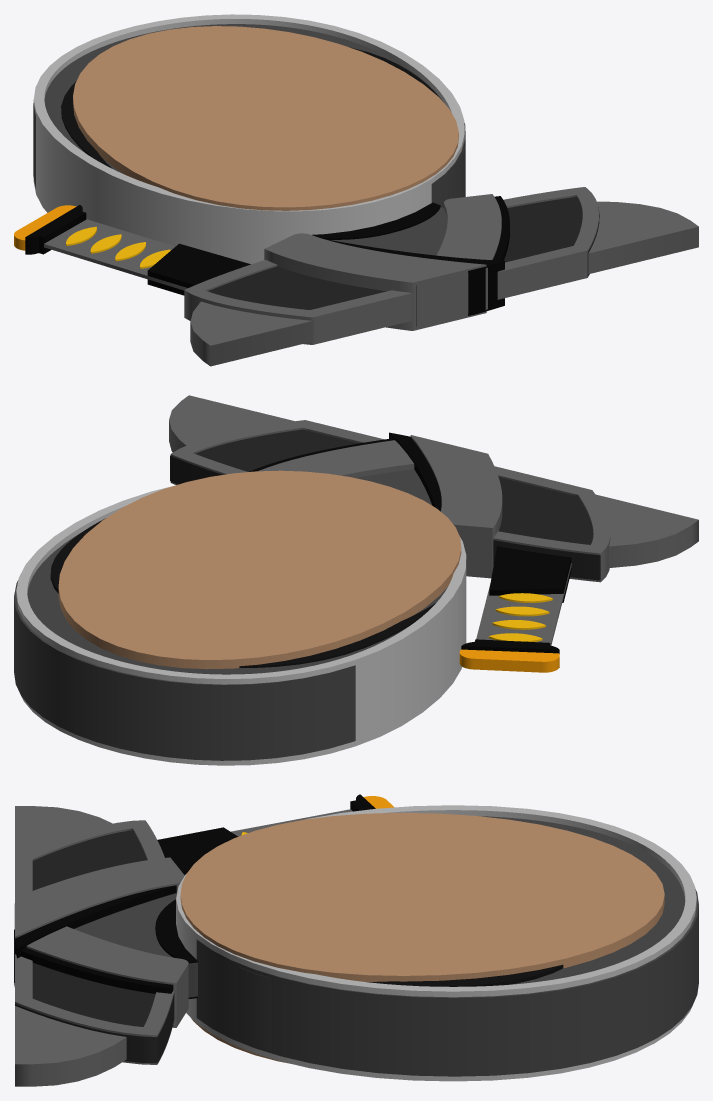
The model's file is emoji_u1f977_1f3fd.glb.
3 renders of one model, top to bottom at view 1: azimuth 30°, elevation 25°; view 2: azimuth 150°, elevation 25°; view 3: azimuth 270°, elevation 25°, orthographic. The views are drawn at different scales.
Visible parts, largest first — view 1: emoji_u1f977_1f3fd; view 2: emoji_u1f977_1f3fd; view 3: emoji_u1f977_1f3fd.
Part boxes in pixels (<box>): emoji_u1f977_1f3fd: <box>14,14,698,366</box>; emoji_u1f977_1f3fd: <box>14,395,698,765</box>; emoji_u1f977_1f3fd: <box>14,794,698,1086</box>.
Size of the model in its own units: 0.0314 by 0.0052 by 0.0332.
